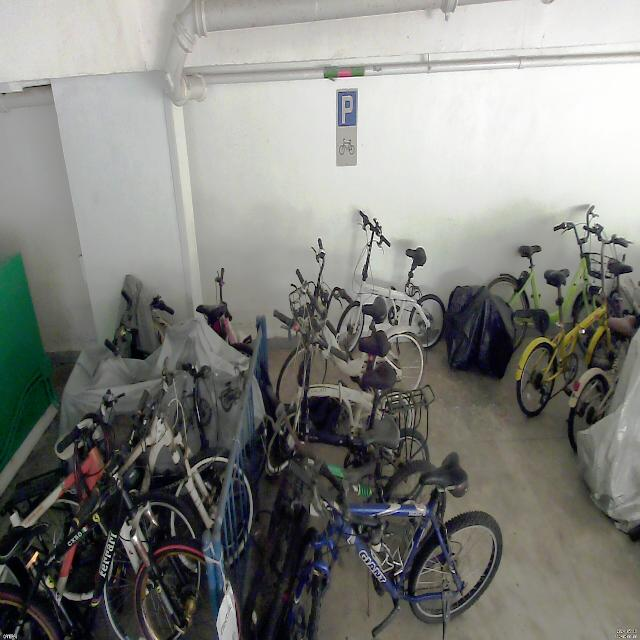bike: (1, 387, 240, 640), (32, 356, 254, 608), (0, 390, 204, 640), (257, 450, 503, 640), (266, 363, 428, 534), (266, 307, 415, 475), (275, 238, 425, 404), (516, 223, 640, 414), (485, 206, 625, 372), (337, 209, 446, 352)
